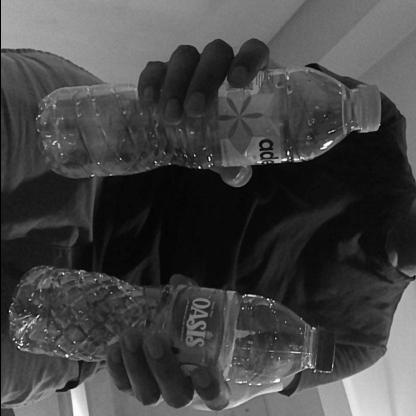plastic_bottles: (9, 266, 337, 384), (40, 71, 382, 176)
